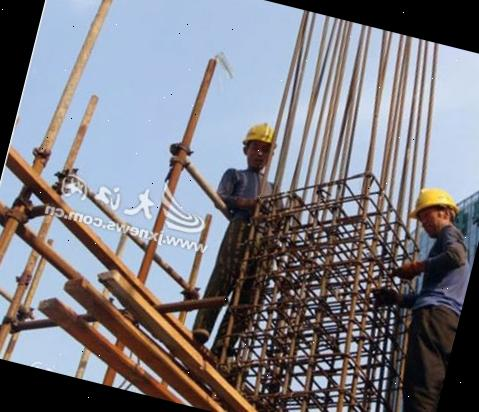helmet: (400, 180, 462, 229), (238, 116, 278, 149)
no_wear: (413, 224, 479, 321), (213, 164, 278, 232)
